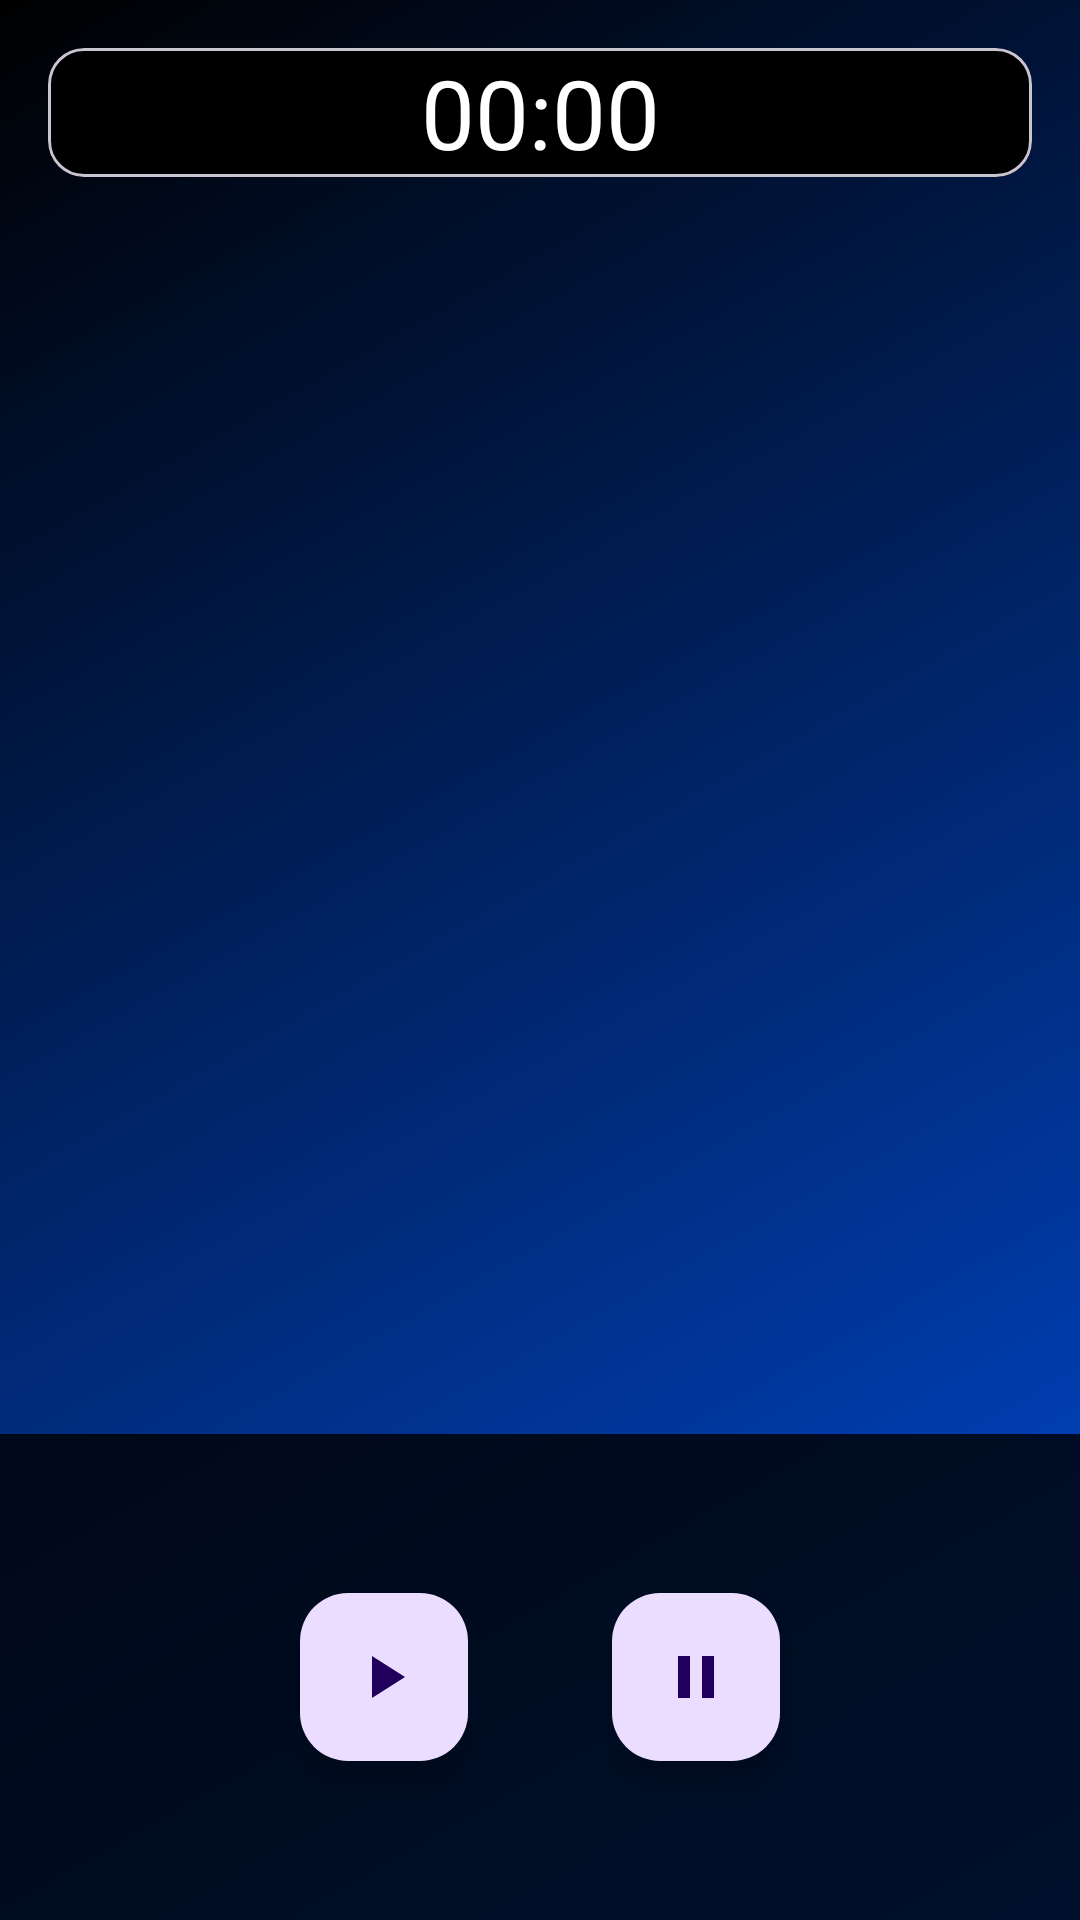

Where to tap for icons on this 1080px×1920px app screen, as (x=x, y=y):
play arrow: (x=384, y=1677)
